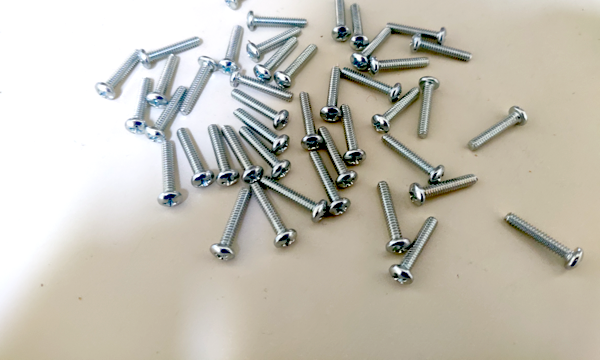longscrew: (502, 213, 581, 265), (389, 216, 442, 288), (248, 184, 295, 247), (382, 135, 445, 182), (370, 183, 410, 254), (304, 153, 347, 219), (469, 105, 528, 152), (233, 106, 289, 155), (264, 177, 326, 220), (213, 191, 251, 261), (236, 127, 289, 177), (232, 88, 294, 130), (315, 125, 353, 187), (221, 125, 263, 181), (99, 46, 140, 100), (232, 70, 297, 103), (410, 176, 481, 206), (148, 85, 186, 140), (174, 130, 211, 186), (341, 62, 398, 98), (140, 36, 200, 69), (372, 89, 417, 133), (408, 34, 473, 64), (180, 59, 214, 116), (255, 36, 299, 80), (247, 26, 305, 59), (155, 142, 184, 207), (127, 73, 153, 142), (350, 30, 397, 68), (276, 46, 320, 86), (148, 55, 183, 105), (295, 91, 322, 152), (339, 104, 365, 166), (388, 18, 447, 44), (210, 124, 234, 187), (417, 79, 438, 139), (248, 9, 309, 29), (370, 56, 433, 74), (345, 3, 369, 49), (329, 0, 350, 42), (223, 25, 240, 73), (327, 66, 341, 122), (227, 0, 271, 7)
